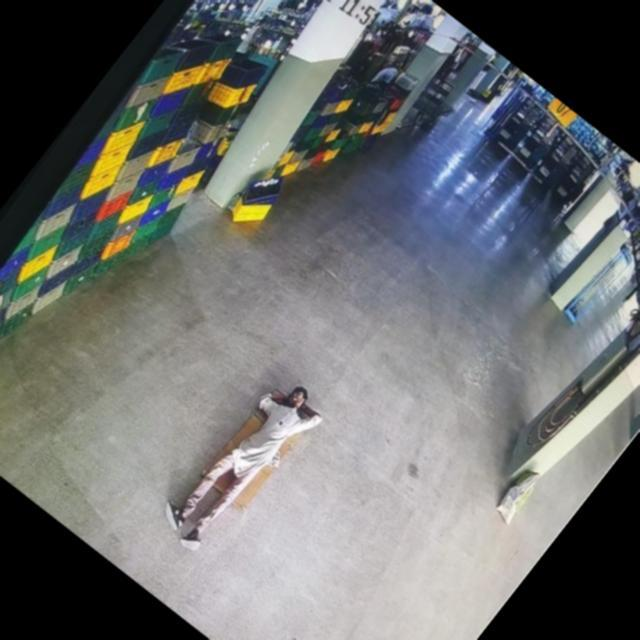person: (152, 364, 336, 570)
